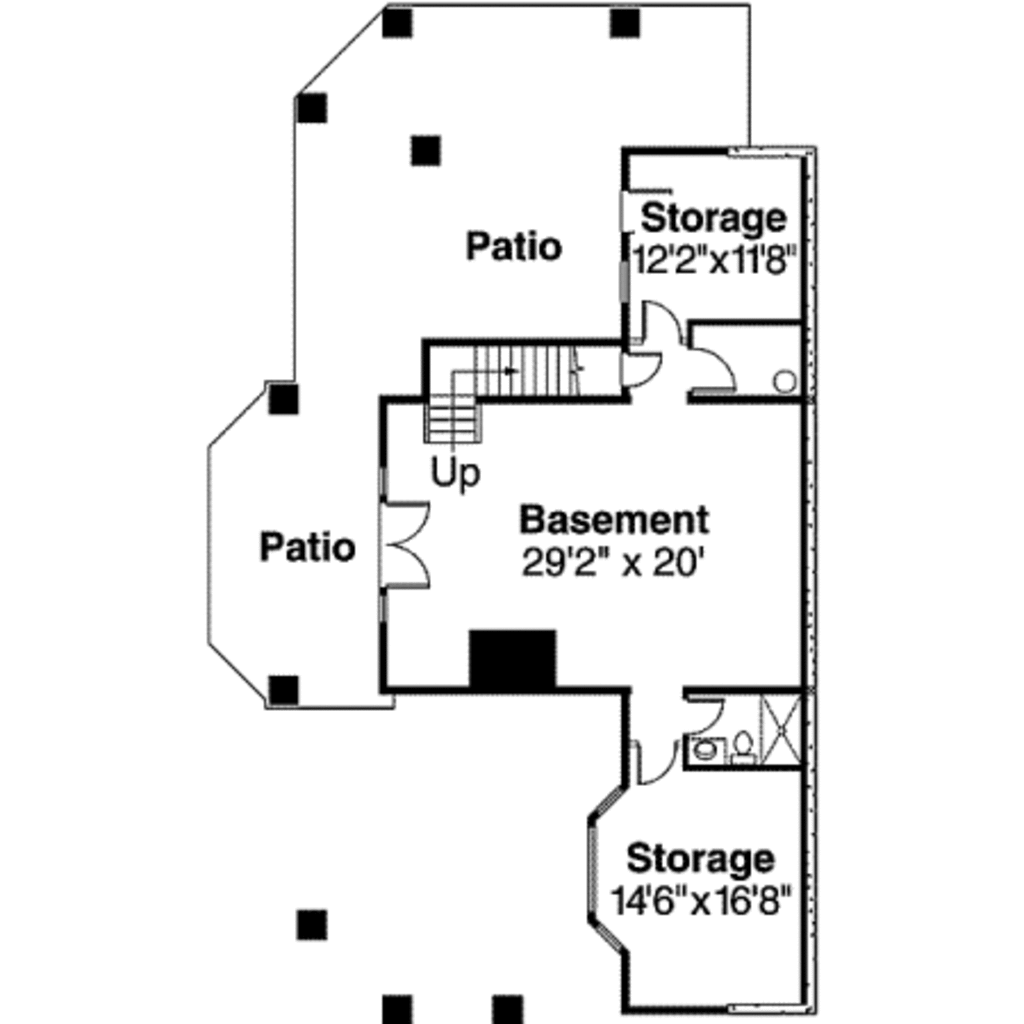door: (375, 497, 440, 590), (623, 735, 682, 787), (686, 344, 737, 392), (638, 286, 680, 341), (690, 693, 737, 735), (623, 352, 664, 389)
large_sink: (725, 727, 769, 766)
small_sink: (685, 728, 728, 771)
stairs: (423, 330, 623, 465)
